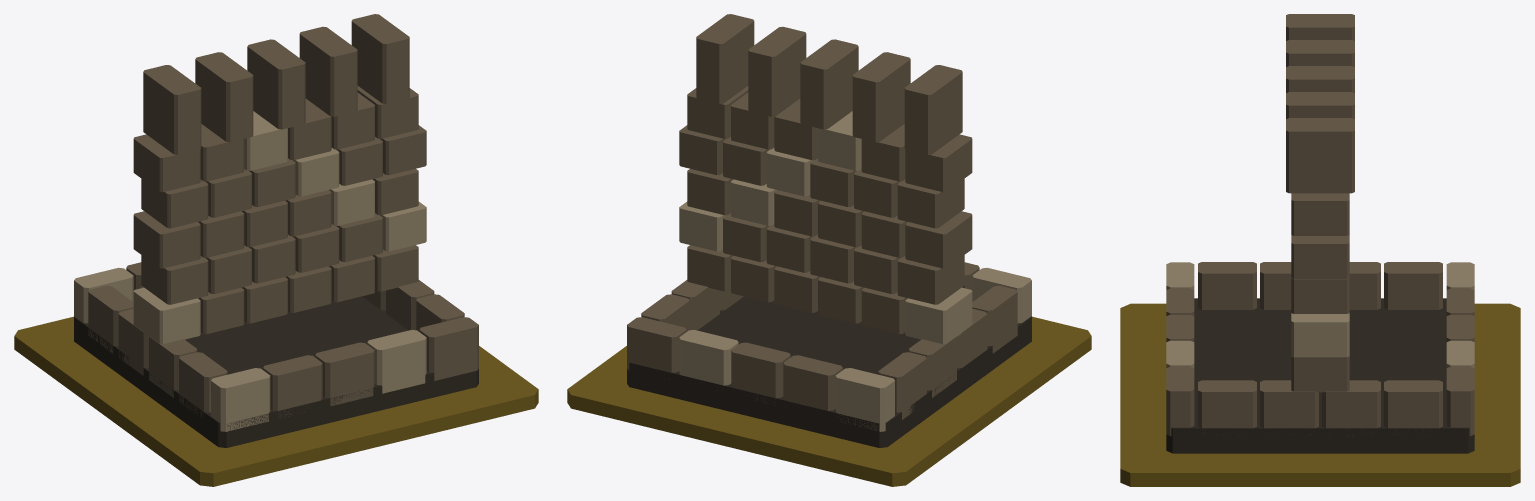
Rendered from stonewall_t2.glb.
The picture shows the model from 3 angles, left to right: view 1: azimuth 30°, elevation 25°; view 2: azimuth 150°, elevation 25°; view 3: azimuth 270°, elevation 25°; orthographic projection. The views are drawn at different scales.
Parts seen in each view (by area): view 1: MMR | stonewall | T02 Architecture.001, MMR | stonewall | Tier 02 Ground.001; view 2: MMR | stonewall | T02 Architecture.001, MMR | stonewall | Tier 02 Ground.001; view 3: MMR | stonewall | T02 Architecture.001, MMR | stonewall | Tier 02 Ground.001.
Boxes of the visible parts, x1,y1,x2,y2 form: MMR | stonewall | T02 Architecture.001: (74,14,478,447); MMR | stonewall | Tier 02 Ground.001: (14,316,538,486); MMR | stonewall | T02 Architecture.001: (627,14,1031,447); MMR | stonewall | Tier 02 Ground.001: (567,316,1091,486); MMR | stonewall | T02 Architecture.001: (1166,14,1474,453); MMR | stonewall | Tier 02 Ground.001: (1120,303,1520,486).
Size of the model in its own units: 1.3 by 1.18 by 1.3.
Materials: 1 (1 with a texture image).
